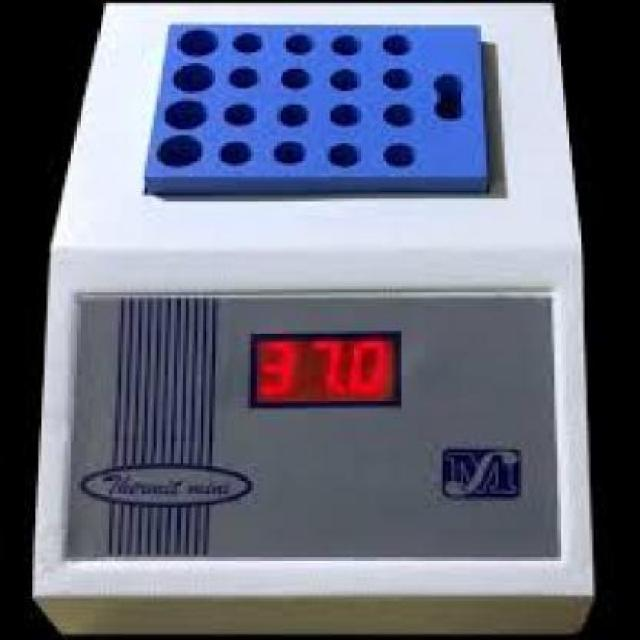display: (252, 334, 397, 404)
frame: (260, 337, 390, 400)
gauge: (31, 0, 594, 640)
